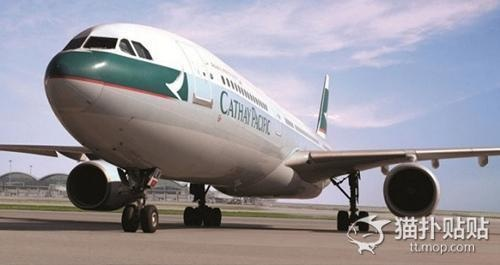airplane: (1, 21, 500, 226)
